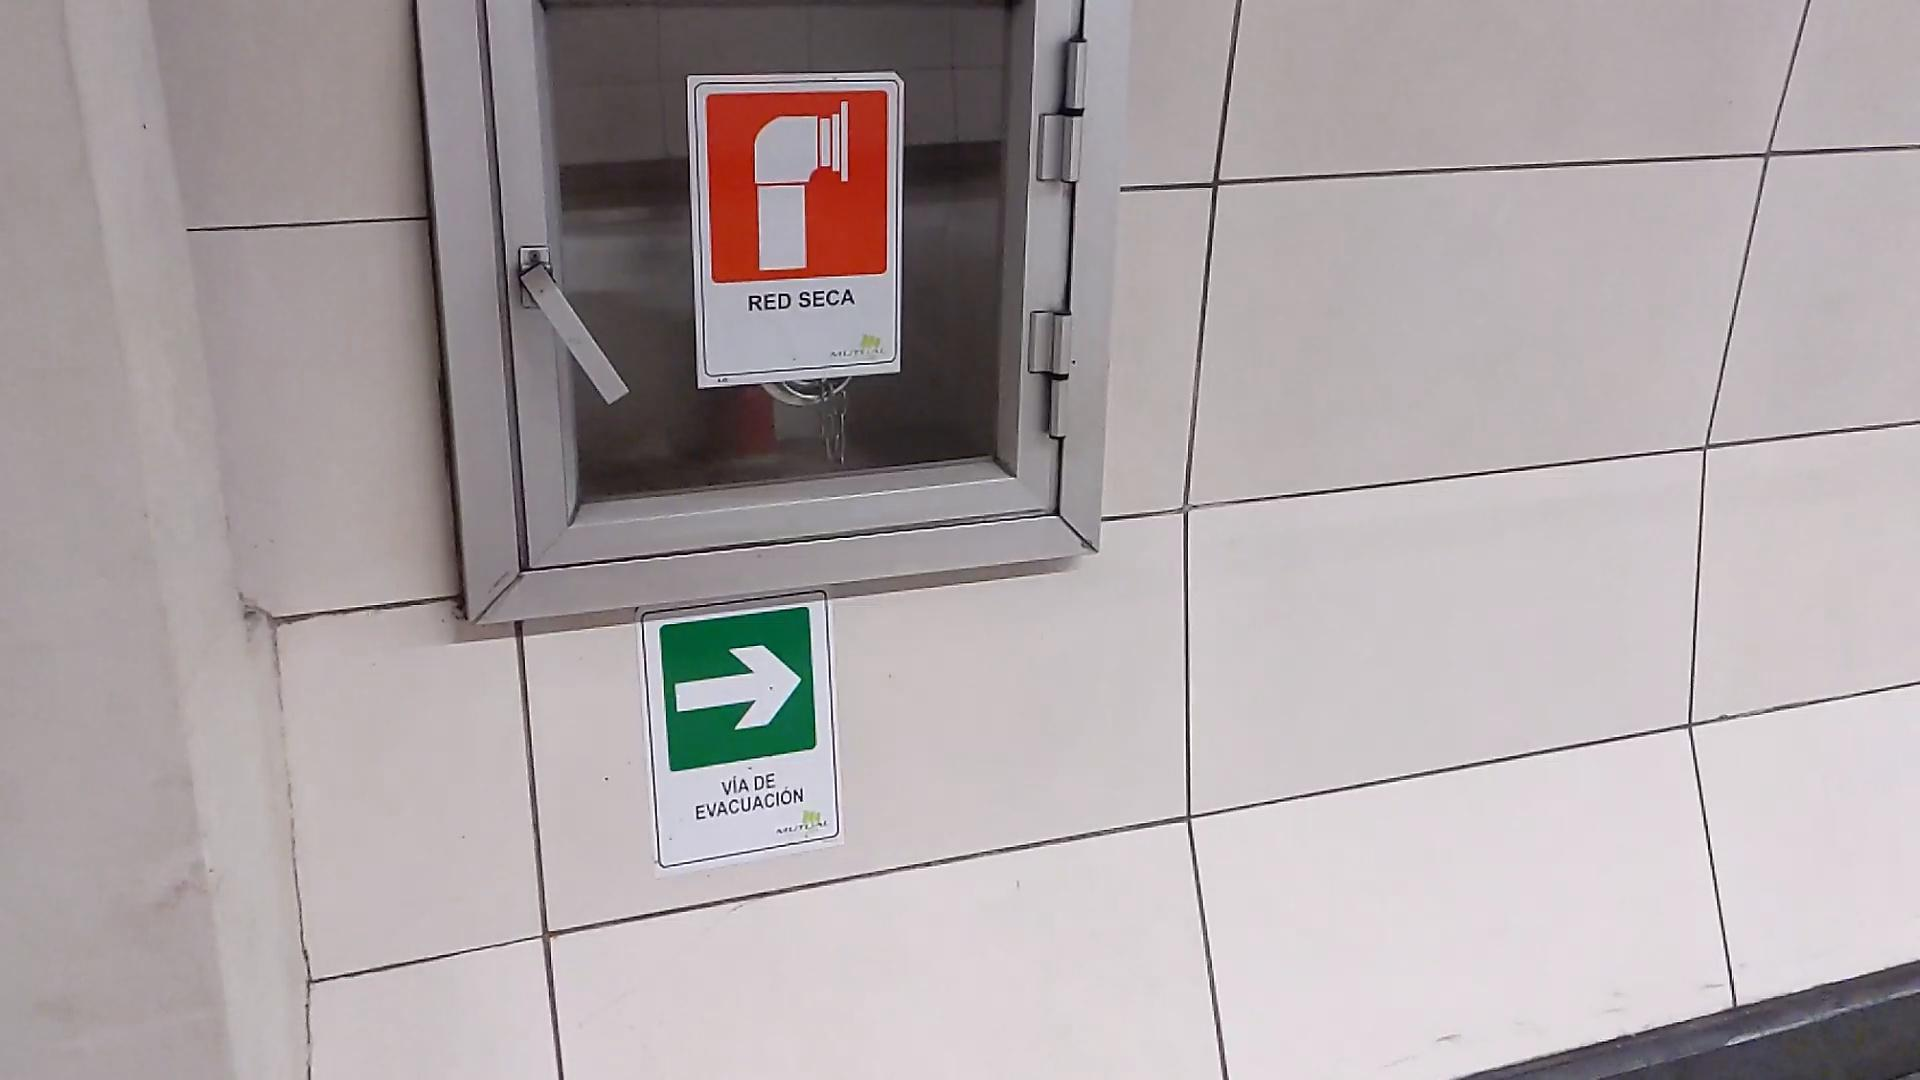emergency right arrow: (669, 637, 806, 736)
